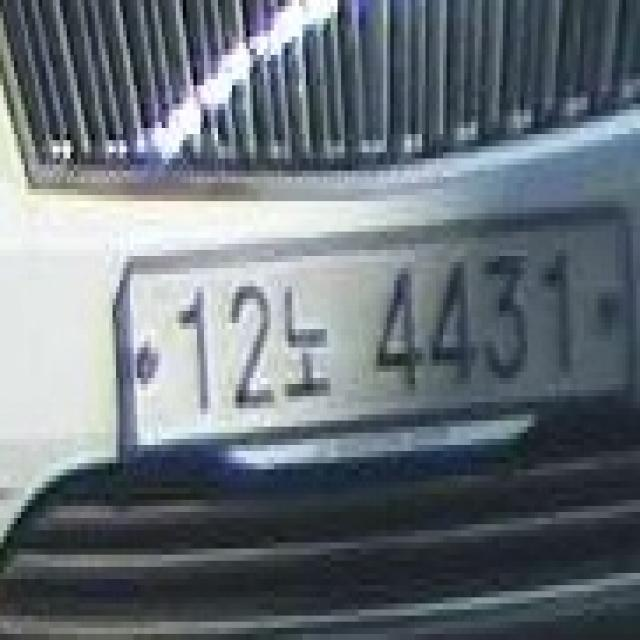1: (176, 274, 228, 439), (535, 244, 587, 396)
2: (228, 274, 278, 433)
3: (475, 250, 538, 396)
4: (422, 262, 482, 402), (373, 268, 429, 402)
license_plate: (113, 201, 636, 488)
no: (278, 274, 341, 421)
